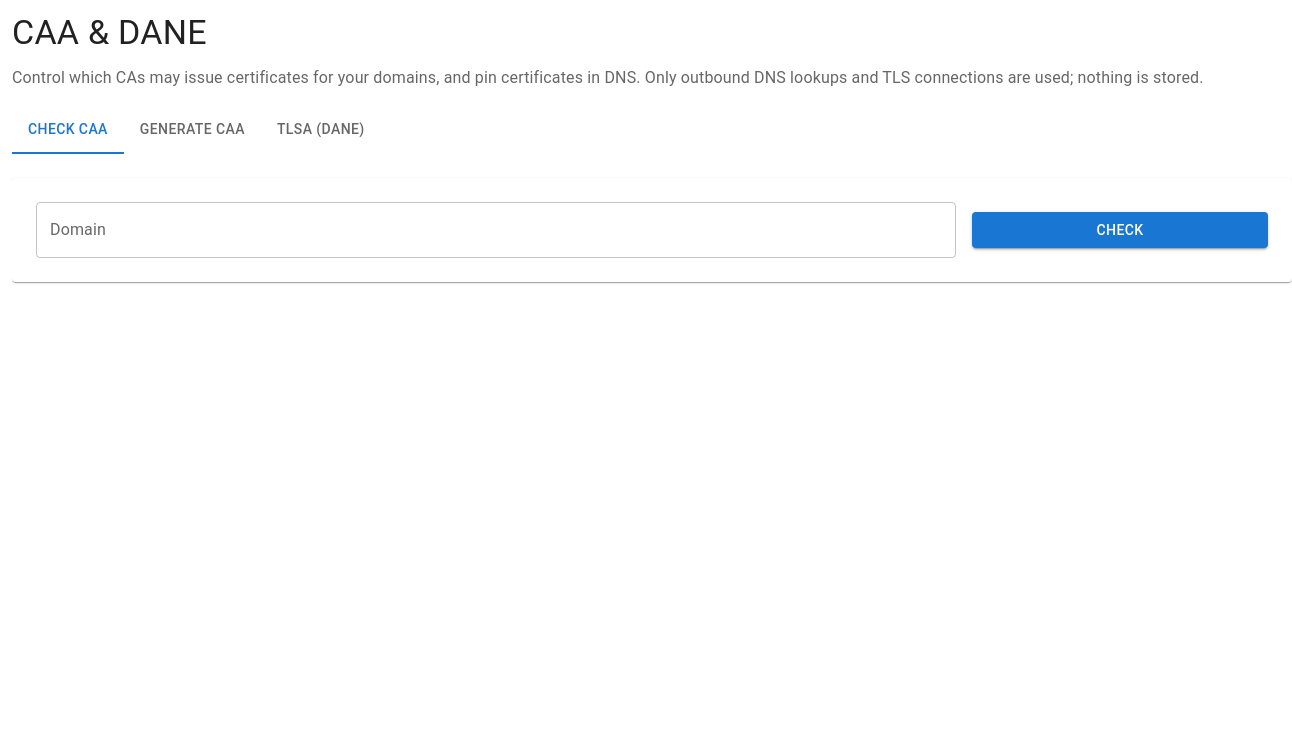
Test case: checks a domain and lists the allowed CAs and the findings
Type " example.com " into the field labelled "Domain" at (496, 230), box x1=36 y1=202 x2=956 y2=258
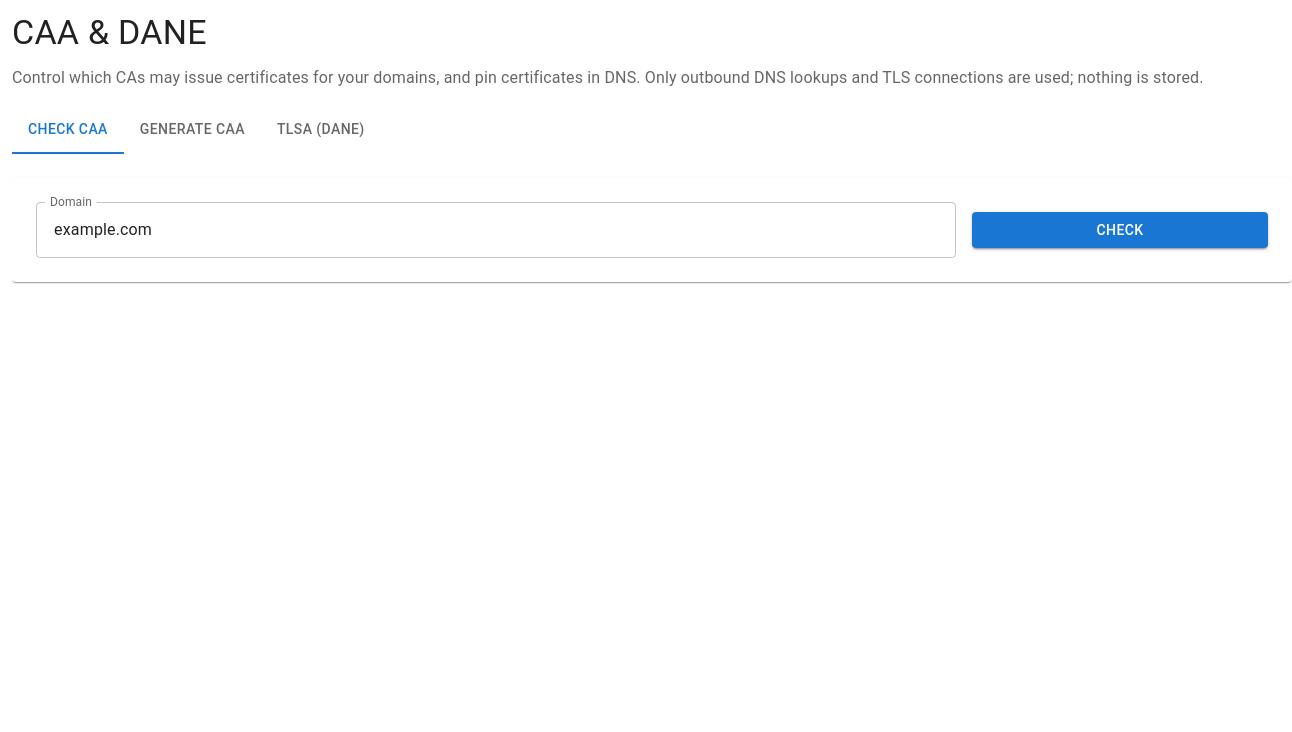
Click the button "Check" at (1120, 230), box x1=972 y1=212 x2=1268 y2=248
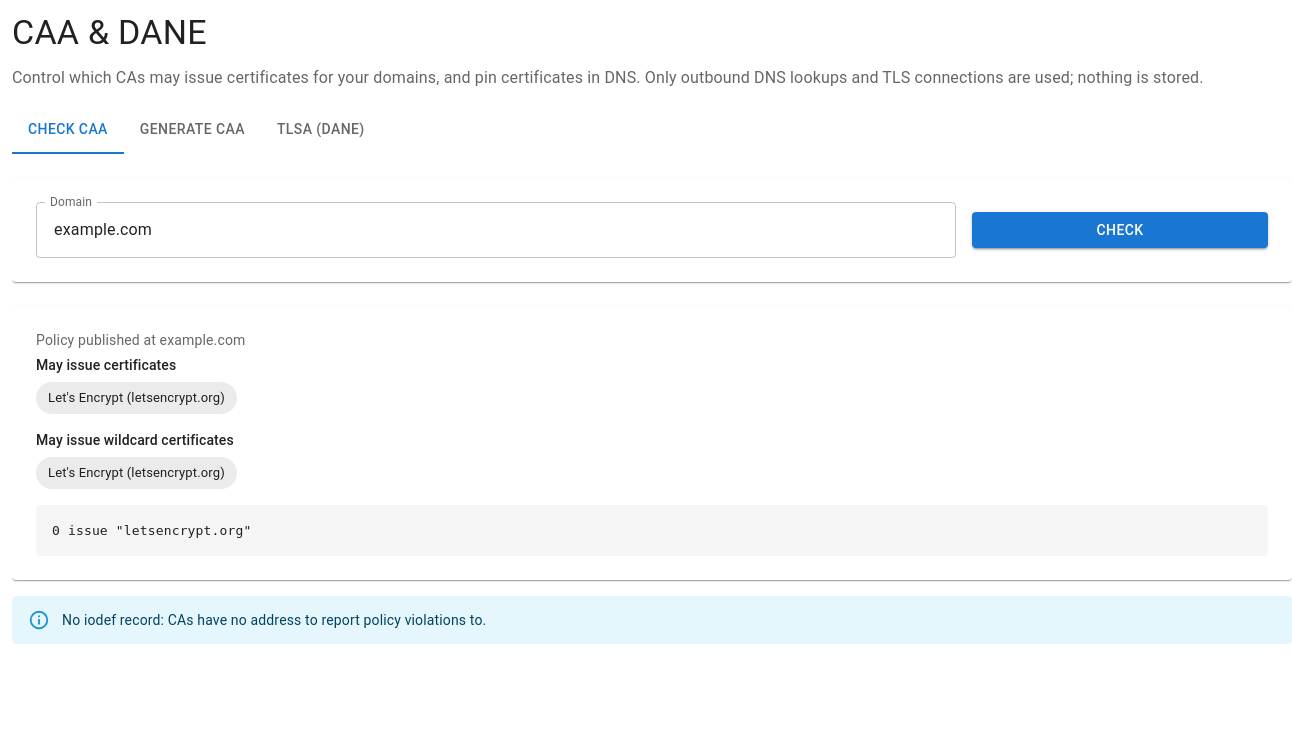
Now the 1st text "Let's Encrypt (letsencrypt.org)" is shown, box x1=36 y1=388 x2=237 y2=407
Now the text "No iodef record" is shown, box x1=62 y1=612 x2=486 y2=628
